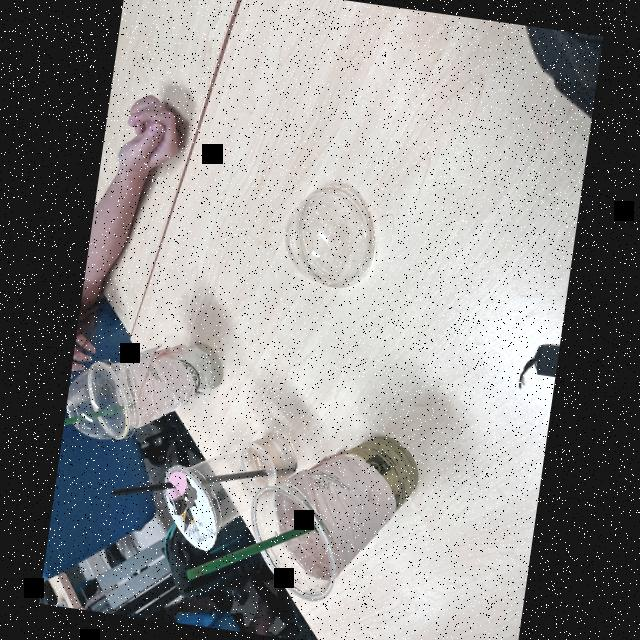plastic_cup: (238, 417, 425, 618), (152, 414, 304, 566), (76, 315, 230, 458)
plastic_cup_lid: (271, 174, 385, 297), (61, 355, 140, 448)
straw: (185, 523, 322, 585), (108, 467, 291, 498), (63, 399, 148, 428)
